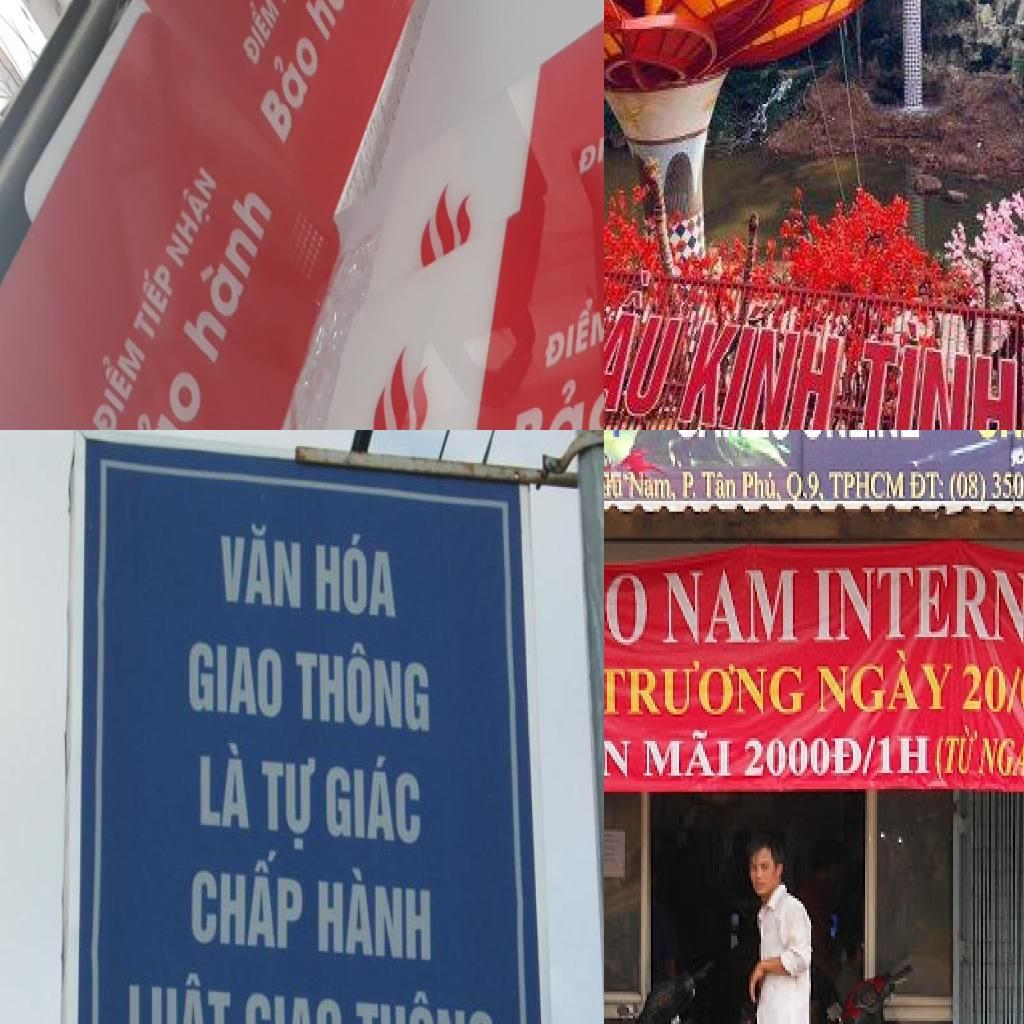text: (670, 288, 851, 430), (172, 166, 277, 374), (848, 315, 1024, 430), (813, 565, 1024, 655), (604, 263, 702, 430), (293, 637, 437, 745), (186, 846, 310, 964), (314, 864, 438, 972), (604, 661, 809, 717), (661, 570, 803, 648), (324, 746, 428, 850), (212, 504, 308, 615), (254, 9, 324, 158), (182, 625, 288, 716), (815, 648, 959, 714), (106, 343, 209, 430), (312, 530, 403, 628), (157, 154, 227, 280), (122, 963, 241, 1024), (350, 980, 505, 1024), (514, 355, 604, 430), (261, 743, 321, 852), (77, 320, 150, 404), (540, 280, 604, 374), (197, 734, 257, 832), (127, 248, 181, 352), (743, 736, 867, 781), (237, 977, 349, 1024), (641, 728, 735, 781), (961, 660, 1024, 722), (604, 570, 651, 647), (299, 0, 372, 47), (235, 0, 283, 70), (935, 722, 981, 784), (949, 469, 1024, 503), (977, 727, 1024, 781), (829, 472, 907, 504), (576, 97, 604, 179), (681, 469, 739, 504), (629, 472, 679, 504), (673, 430, 793, 442), (741, 472, 785, 504), (787, 472, 827, 504), (909, 472, 945, 504), (861, 736, 879, 778), (604, 471, 625, 503)
